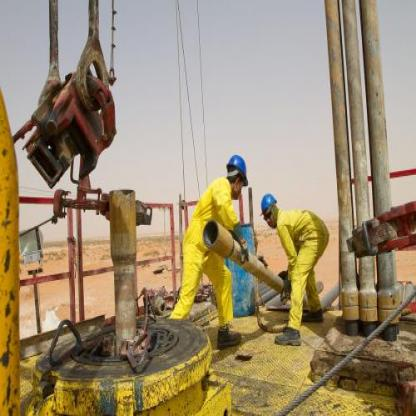helmet: (224, 153, 249, 201), (259, 190, 278, 228)
